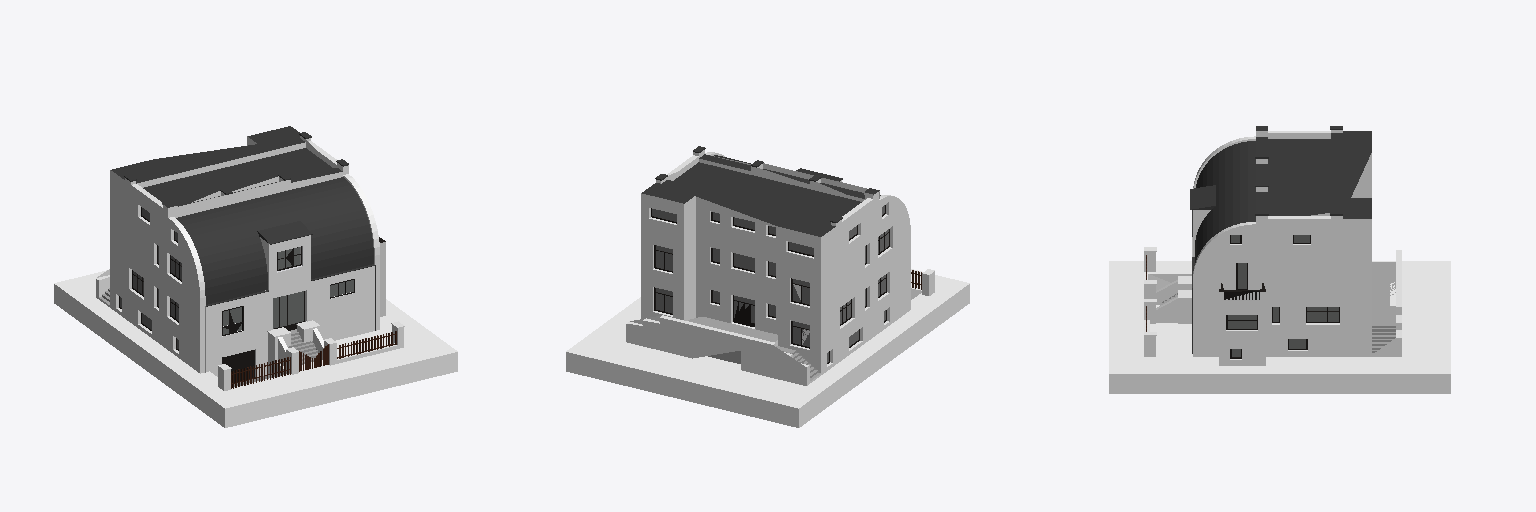
File: steiner_house_habitatnow.obj
3 views of the same model, side by side, from view 1: azimuth 30°, elevation 25°; view 2: azimuth 150°, elevation 25°; view 3: azimuth 270°, elevation 25° (orthographic).
Visible parts, largest first — view 1: Mesh97 Model, Mesh2 Group2 Model, Mesh1 Group1 Model, Mesh94 Railing2 Model, Mesh93 Railing1 Model; view 2: Mesh97 Model; view 3: Mesh97 Model, Mesh2 Group2 Model, Mesh1 Group1 Model, Mesh93 Railing1 Model, Mesh94 Railing2 Model.
Boxes of the visible parts, x1=… form: Mesh97 Model: x1=54, y1=126, x2=457, y2=427; Mesh2 Group2 Model: x1=238, y1=177, x2=373, y2=278; Mesh1 Group1 Model: x1=176, y1=203, x2=267, y2=304; Mesh94 Railing2 Model: x1=267, y1=327, x2=298, y2=374; Mesh93 Railing1 Model: x1=296, y1=320, x2=336, y2=365; Mesh97 Model: x1=566, y1=150, x2=969, y2=427; Mesh97 Model: x1=1109, y1=126, x2=1450, y2=393; Mesh2 Group2 Model: x1=1195, y1=172, x2=1255, y2=262; Mesh1 Group1 Model: x1=1196, y1=141, x2=1255, y2=187; Mesh93 Railing1 Model: x1=1144, y1=290, x2=1191, y2=323; Mesh94 Railing2 Model: x1=1144, y1=276, x2=1191, y2=304.
Size of the model in its own units: 2075 by 1382 by 2639.